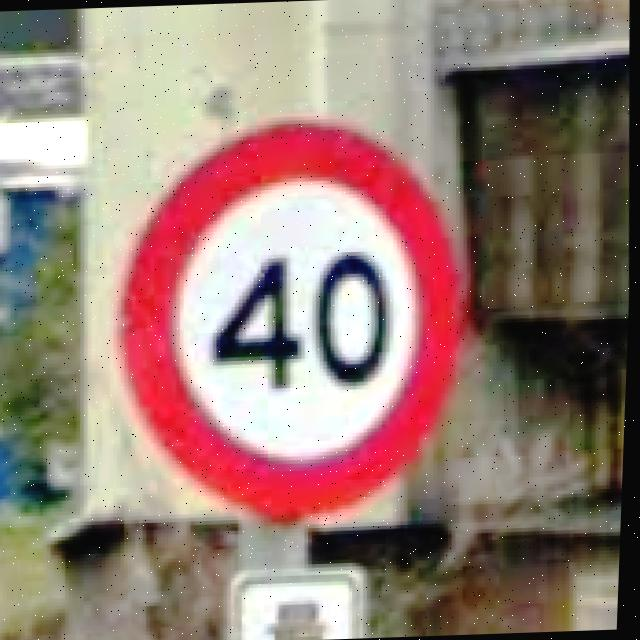max40: (99, 107, 486, 530)
